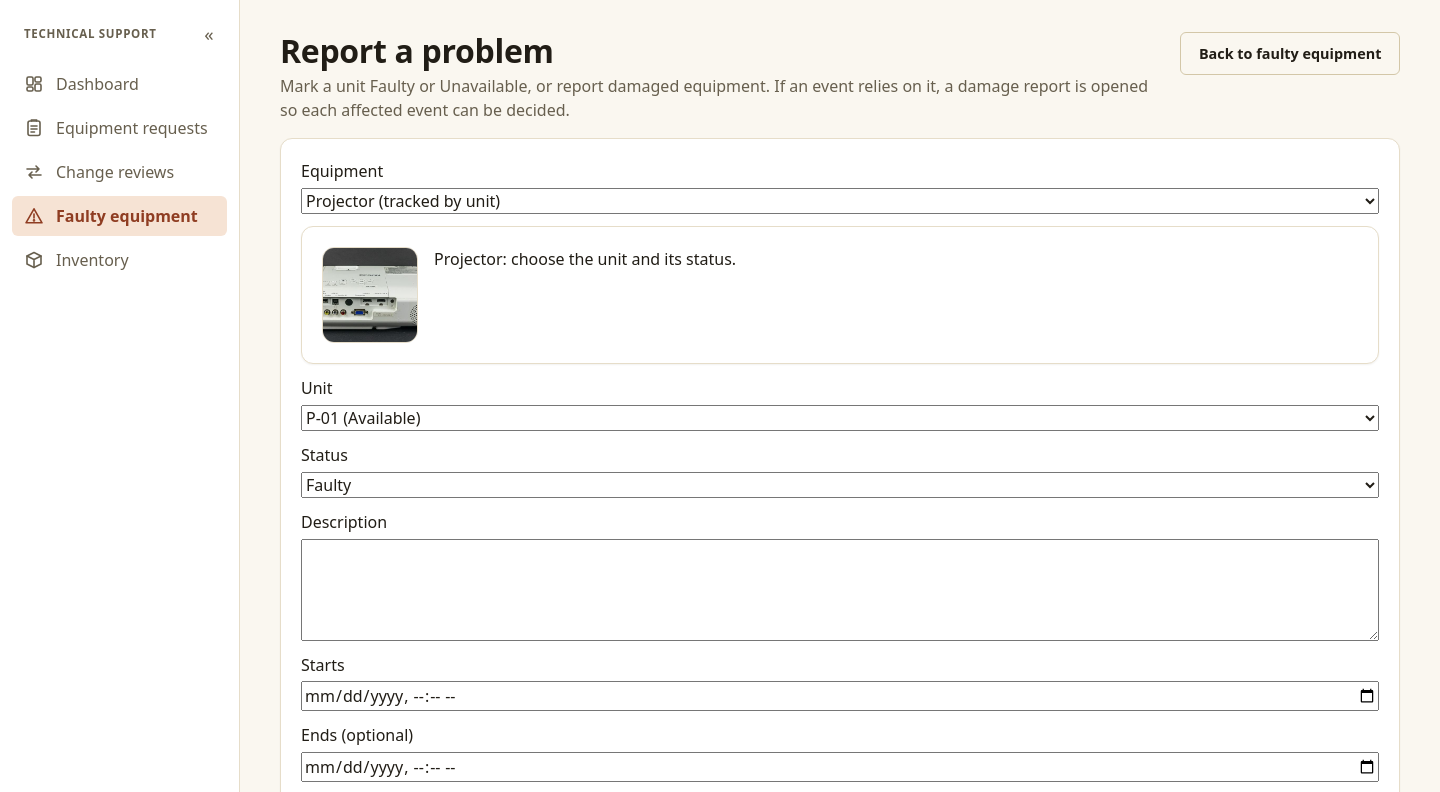
Scenario: Technical Support UI integration › TS03 TS09 (happy): marks a unit Faulty, shows the refreshed status, then marks it available again
The image size is (1440, 792).
Select "Faulty" in the dropdown labelled "Status" at (840, 485), box [301,472,1379,498]
Type "2026-09-25T09:00" into the field labelled "Starts".
click(840, 696); type("2026-09-25T09:00")  # box [301,681,1379,711]
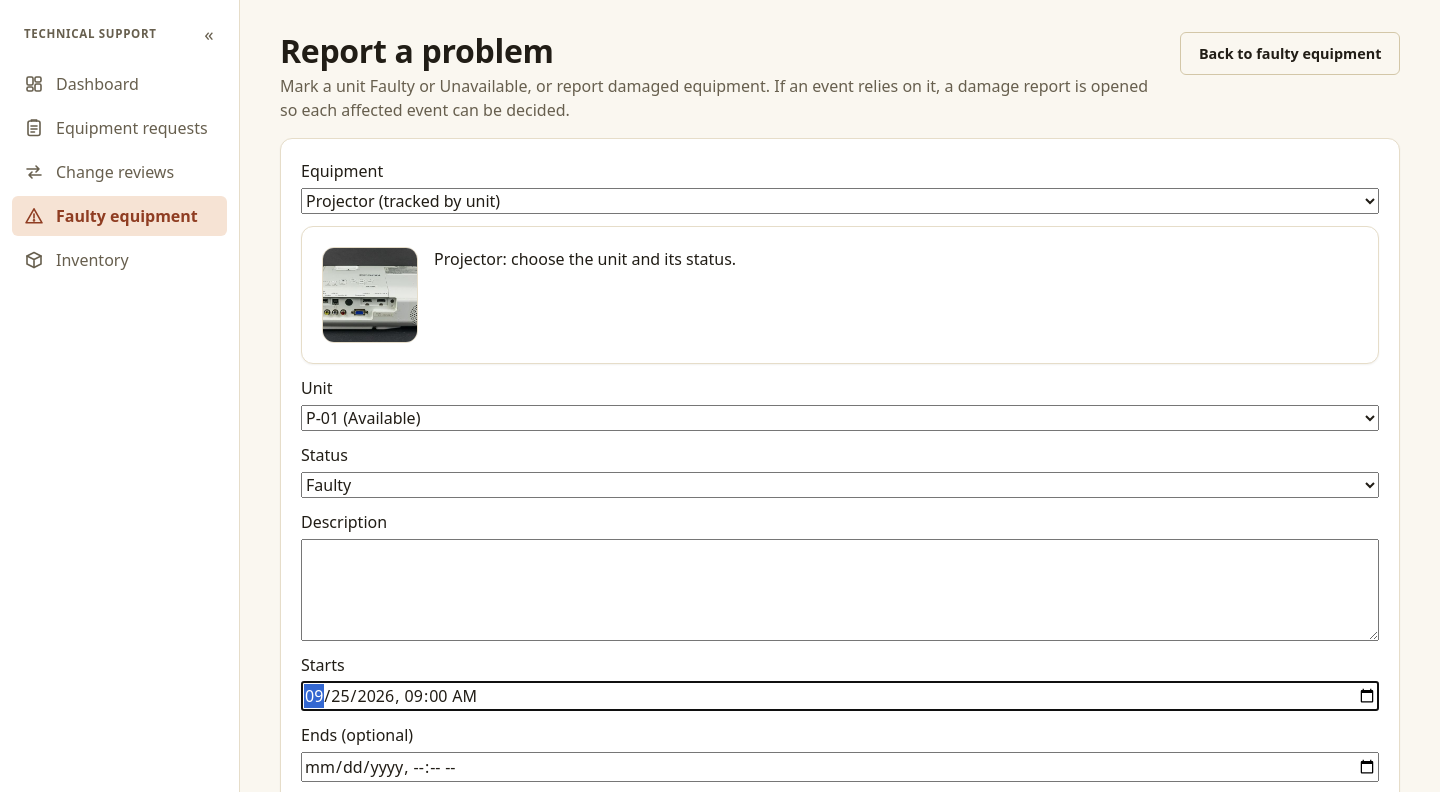
Type "2026-09-25T17:00" into the field labelled "Ends (optional)".
click(840, 767); type("2026-09-25T17:00")  # box [301,752,1379,782]
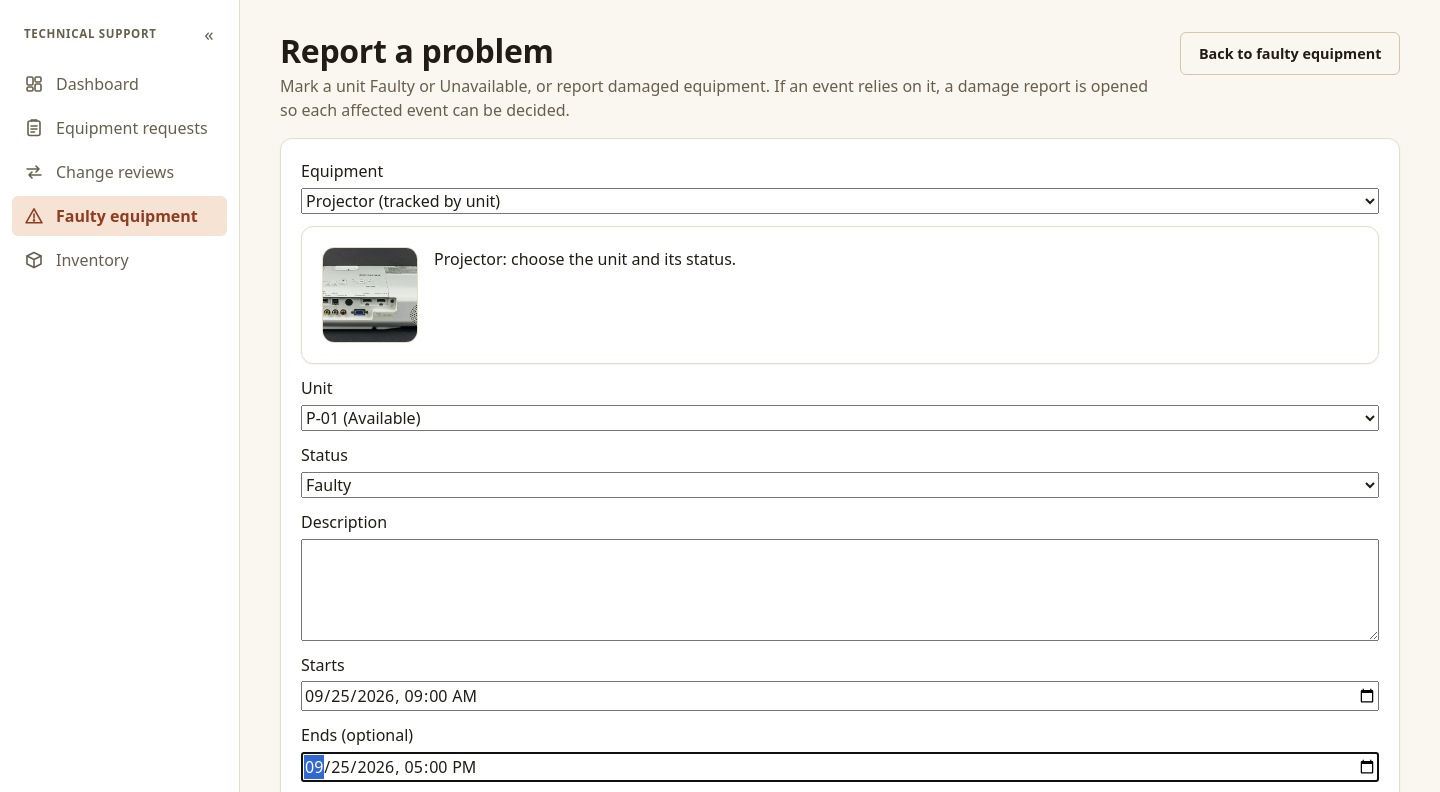
Type "Lamp flickers" into the text box labelled "Description".
click(840, 590); type("Lamp flickers")  # box [301,539,1379,641]
(page scrolled)
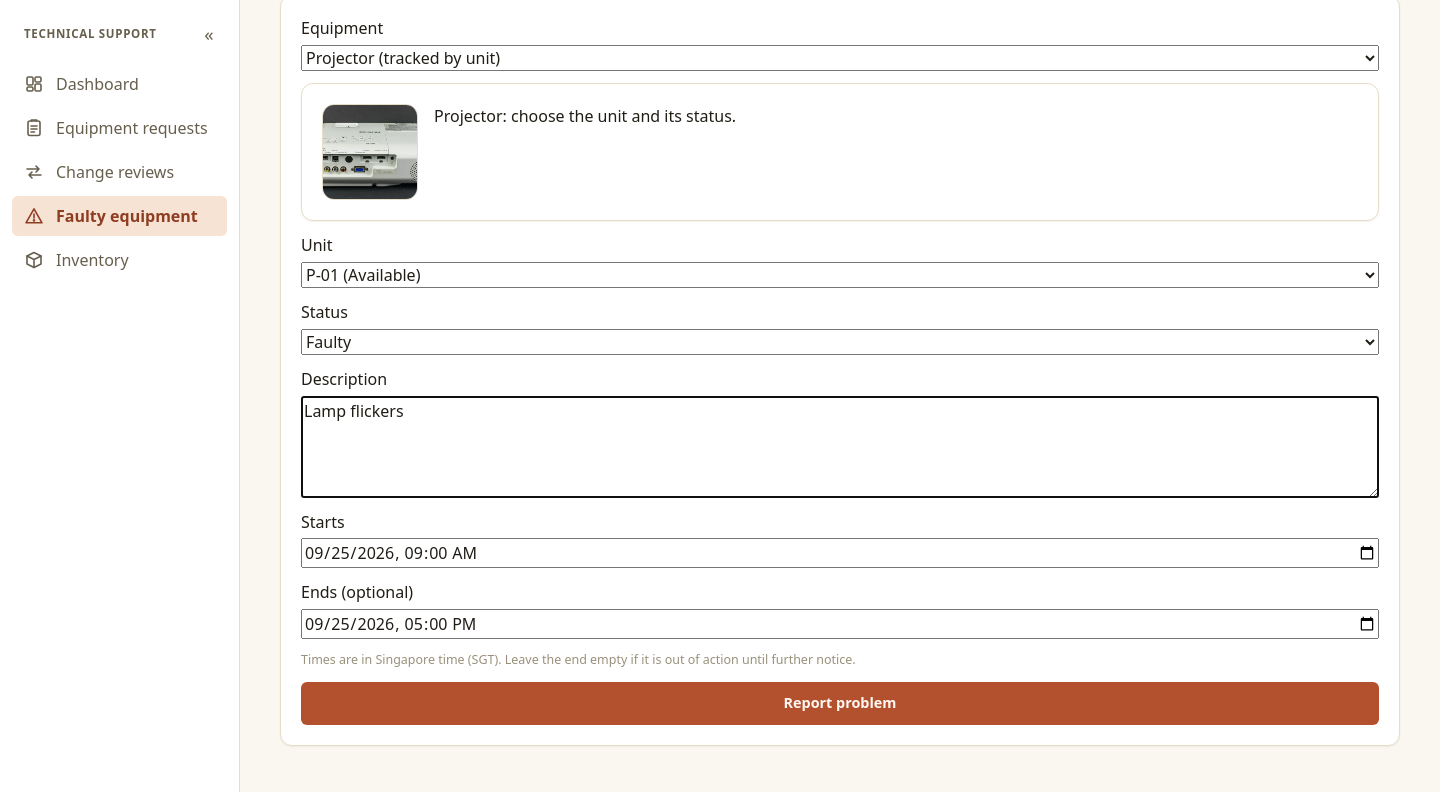
Click the button "Report problem".
click(840, 703)  # box [301,682,1379,725]
(page scrolled)
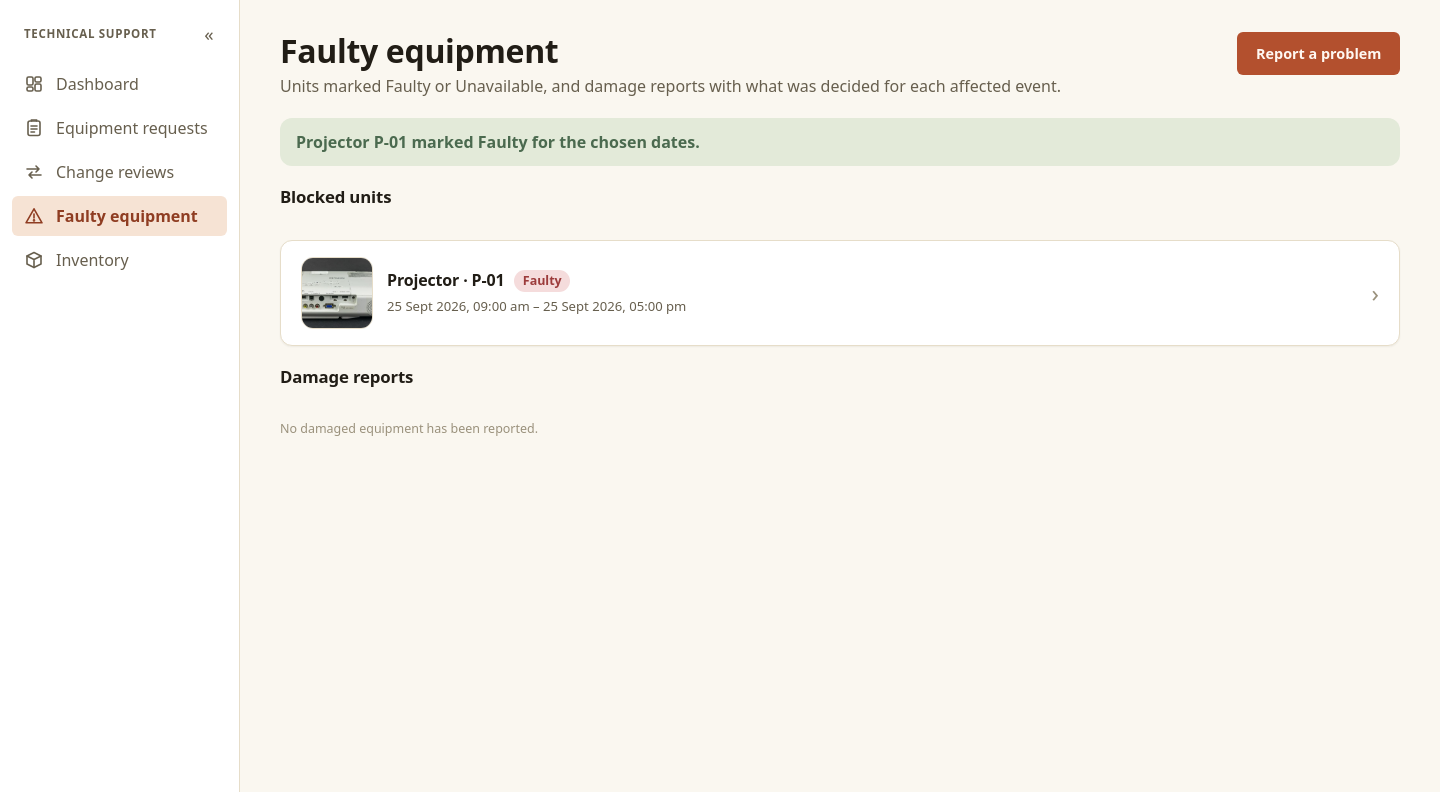
expect the message shows "marked Faulty": met, box [296,131,700,153]
Click the link "Projector · P-01".
click(337, 293)  # box [280,240,1400,346]
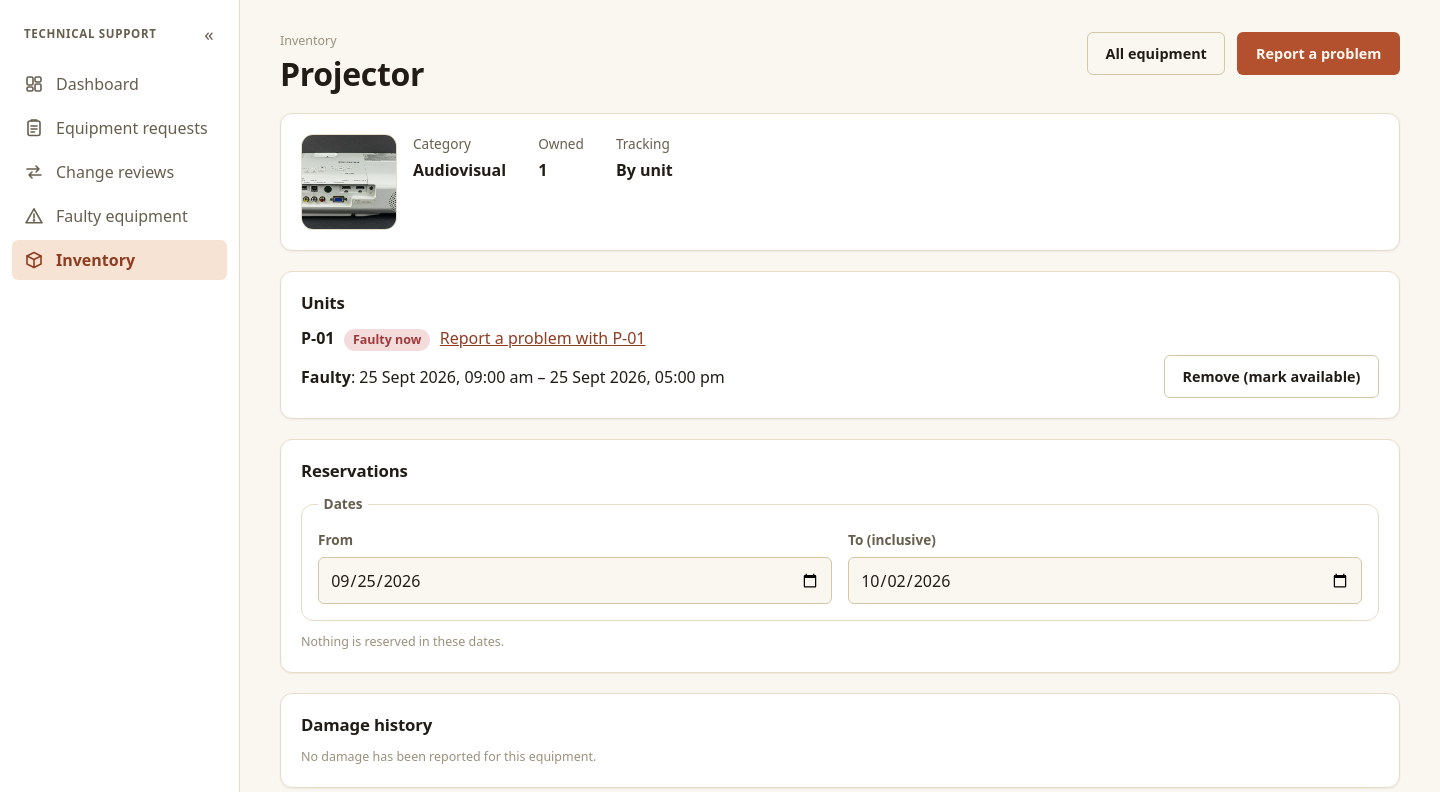
expect the text "Faulty now" is shown: met, box [344,329,430,351]
Click the button "Remove (mark available)".
click(1271, 377)  # box [1164,355,1379,398]
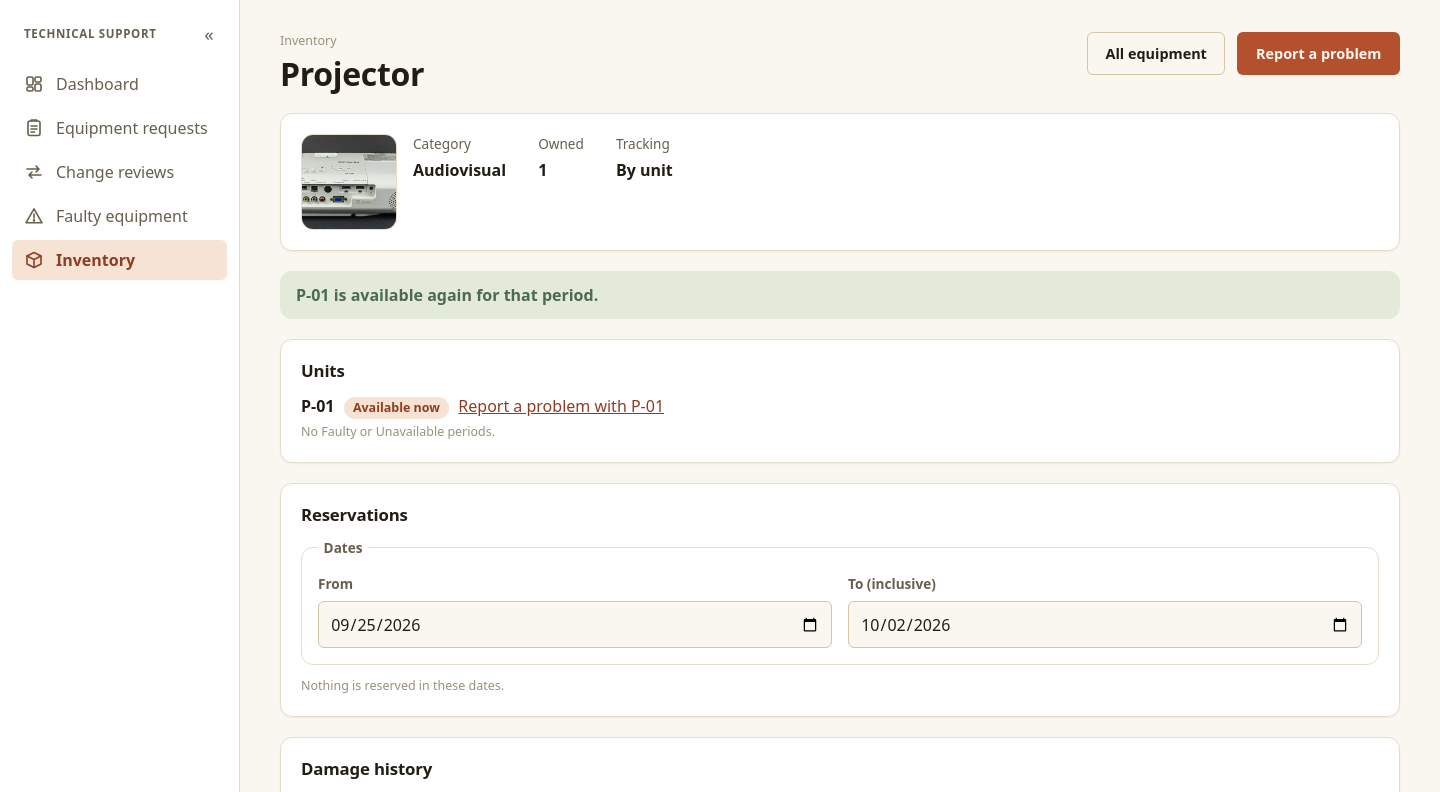
expect the text "P-01 is available again for that period." is shown: met, box [280,271,1400,319]
expect the text "Available now" is shown: met, box [344,397,449,419]
